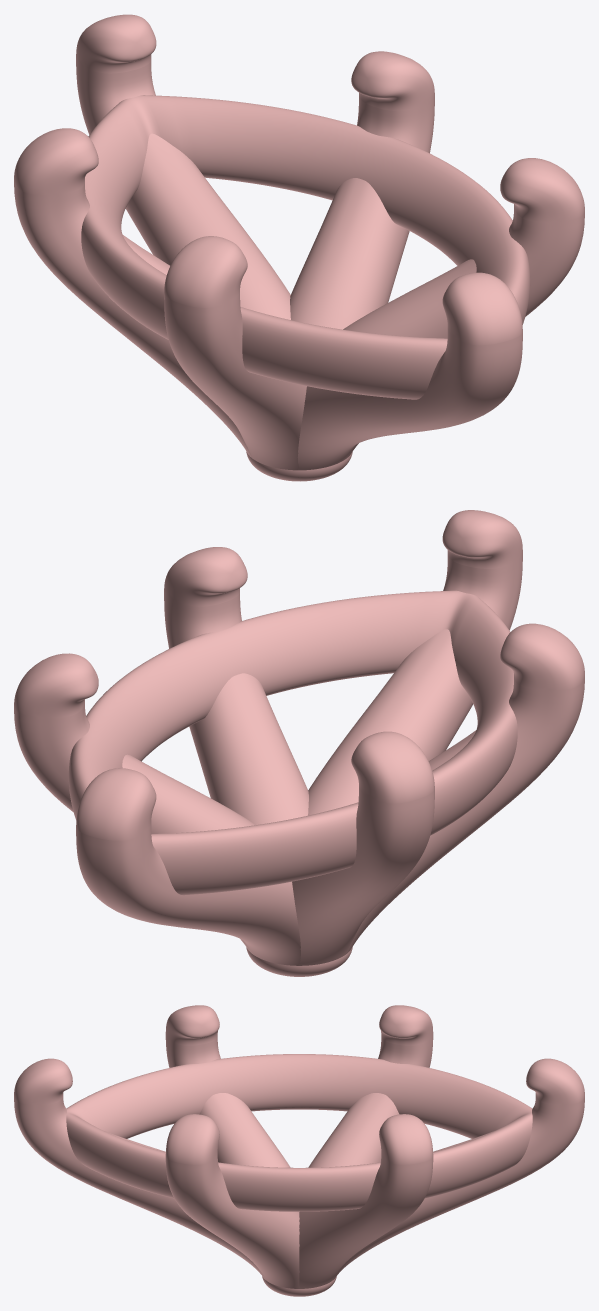
Rendered from MARQUISE.glb.
3 views of the same model, one above another, from view 1: azimuth 30°, elevation 25°; view 2: azimuth 150°, elevation 25°; view 3: azimuth 270°, elevation 25° (orthographic). The views are drawn at different scales.
Parts seen in each view (by area): view 1: marquise.001; view 2: marquise.001; view 3: marquise.001.
Part boxes in pixels (x1,y1,x2,y2): marquise.001: (14, 14, 584, 481); marquise.001: (14, 510, 584, 976); marquise.001: (14, 1005, 584, 1296).
Bounding box in the file's own units: 5.75 × 4.31 × 9.85.
